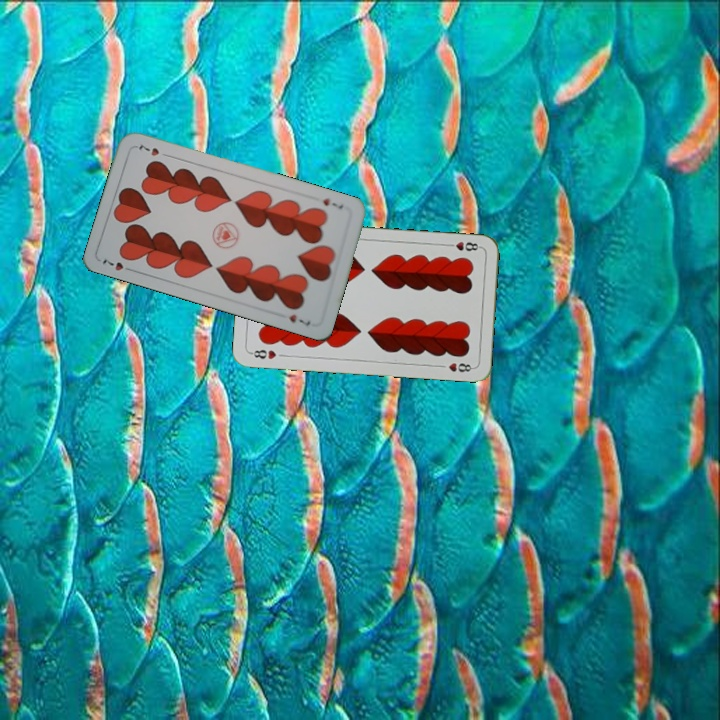H7: (99, 255, 137, 274), (319, 194, 345, 212)
H8: (443, 238, 483, 254), (247, 346, 279, 362)
